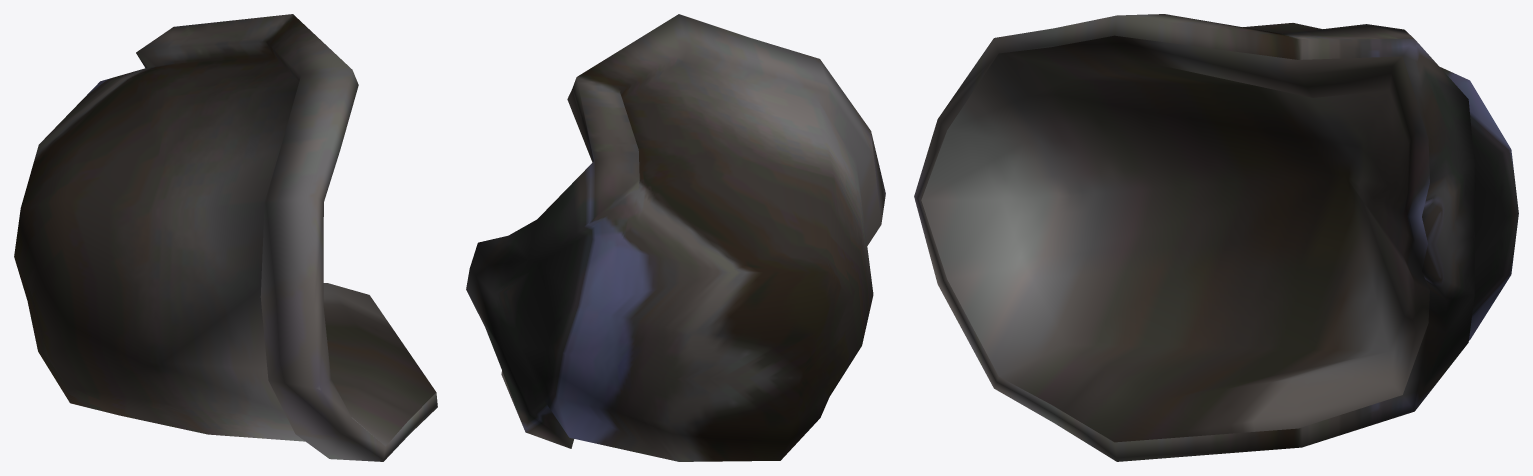
The model's file is INST_MIRK_DORI_HELMET.obj.
3 views of the same model, side by side, from view 1: azimuth 30°, elevation 25°; view 2: azimuth 150°, elevation 25°; view 3: azimuth 270°, elevation 25° (orthographic). The views are drawn at different scales.
Parts seen in each view (by area): view 1: Object01; view 2: Object01; view 3: Object01.
Boxes of the visible parts, x1=… form: Object01: x1=14, y1=14, x2=437, y2=461; Object01: x1=466, y1=14, x2=885, y2=461; Object01: x1=914, y1=14, x2=1518, y2=461.
Size of the model in its own units: 30.1 by 29.89 by 40.63.
